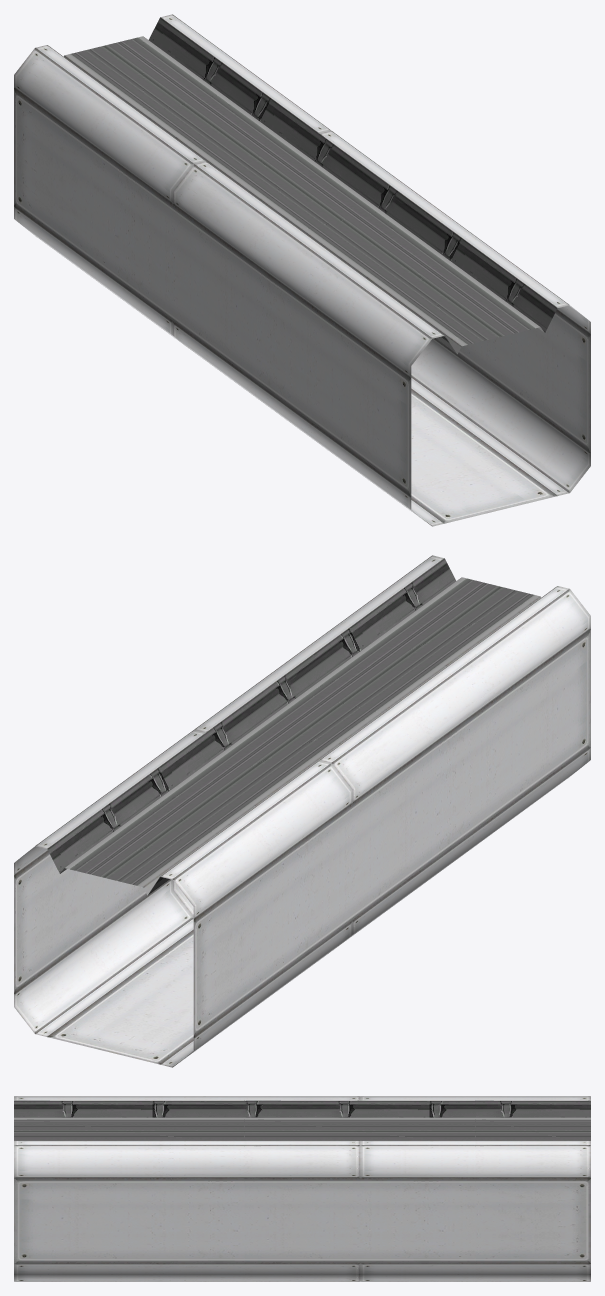
File: CeilingBrace_1x5capped.FBX
The picture shows the model from 3 angles, top to bottom: view 1: azimuth 30°, elevation 25°; view 2: azimuth 150°, elevation 25°; view 3: azimuth 270°, elevation 25°; orthographic projection. The views are drawn at different scales.
Parts seen in each view (by area): view 1: CeilingBrace_1x5capped; view 2: CeilingBrace_1x5capped; view 3: CeilingBrace_1x5capped.
Part boxes in pixels (box(x1,y1,x2,y2)): CeilingBrace_1x5capped: box(14, 14, 590, 526); CeilingBrace_1x5capped: box(14, 555, 590, 1067); CeilingBrace_1x5capped: box(14, 1096, 590, 1281).
Size of the model in its own units: 1.3 by 1.3 by 5.
